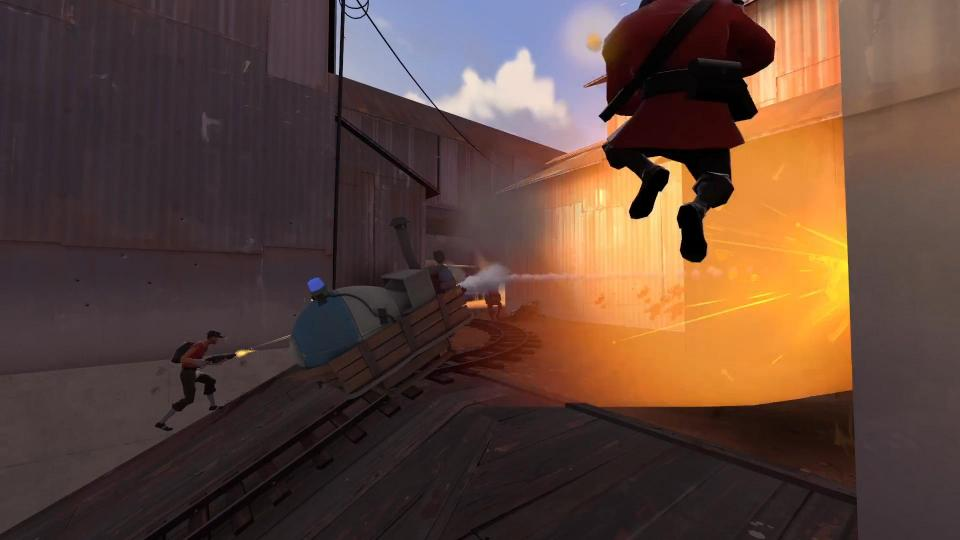Enemy: (600, 0, 778, 265), (154, 329, 241, 433)
